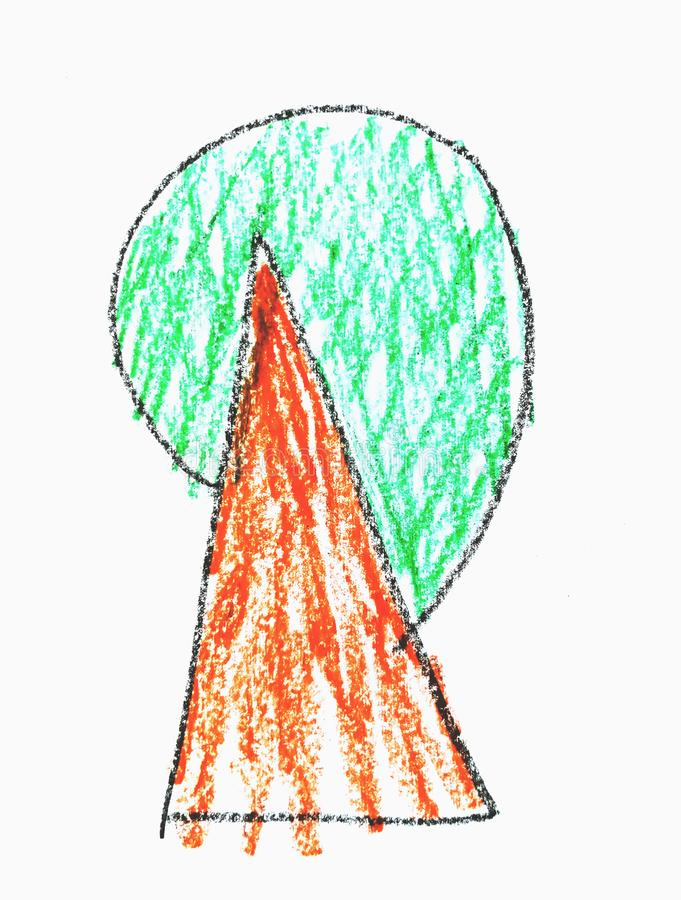tree: (98, 75, 555, 867)
